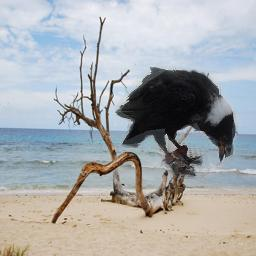Crow: (115, 66, 238, 179)
